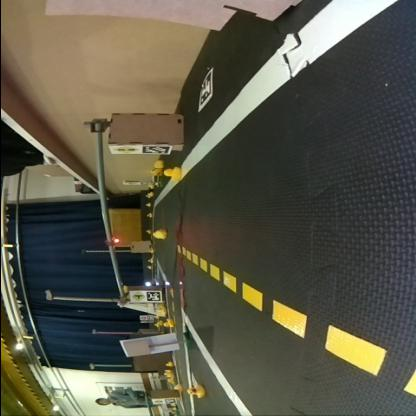Duckie: (162, 167, 180, 180), (186, 385, 204, 397), (152, 230, 166, 238), (161, 318, 173, 326), (157, 308, 165, 314), (146, 191, 152, 197), (146, 212, 150, 218)
Intersection sign: (130, 290, 143, 300)
QR code: (196, 66, 209, 110), (142, 146, 166, 152), (146, 292, 160, 300), (162, 398, 174, 404)
Signal sign: (111, 145, 136, 153)
Traffic light: (106, 236, 119, 245)
